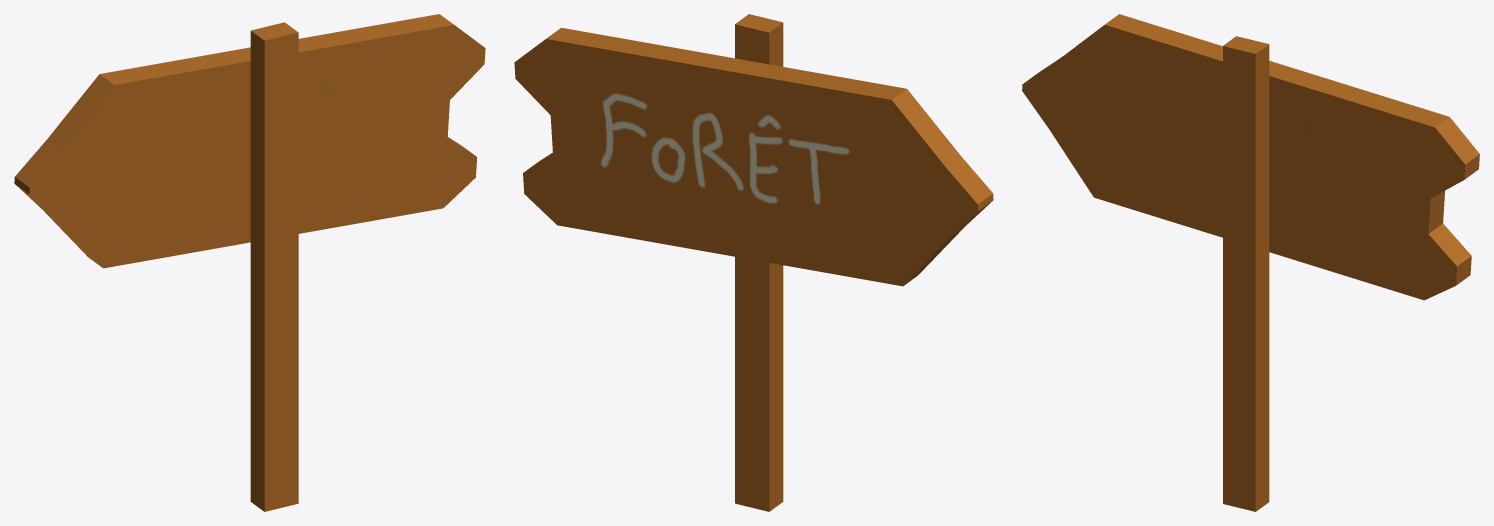
The model's file is wooden_panel (1).fbx.
3 views of the same model, side by side, from view 1: azimuth 30°, elevation 25°; view 2: azimuth 150°, elevation 25°; view 3: azimuth 330°, elevation 25° (orthographic). The views are drawn at different scales.
Visible parts, largest first — view 1: Cube.001; view 2: Cube.001; view 3: Cube.001.
Boxes of the visible parts, box(x1,y1,x2,y2) form: Cube.001: box(14, 14, 485, 511); Cube.001: box(514, 14, 993, 511); Cube.001: box(1022, 14, 1479, 511).
Bounding box in the file's own units: 85.71 × 84.62 × 9.54.
